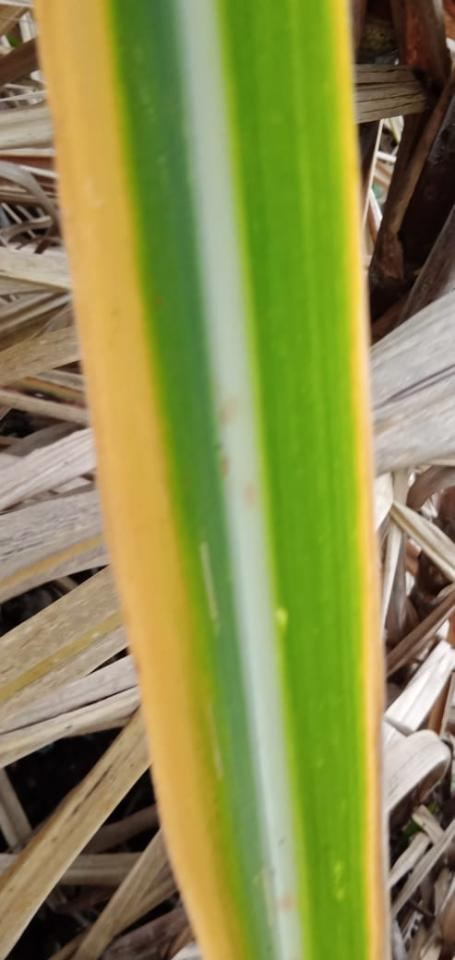RedRot: (220, 397, 238, 428), (243, 484, 256, 509), (279, 893, 294, 914), (220, 455, 232, 478)
Yellow: (34, 0, 254, 959), (332, 0, 392, 959)
